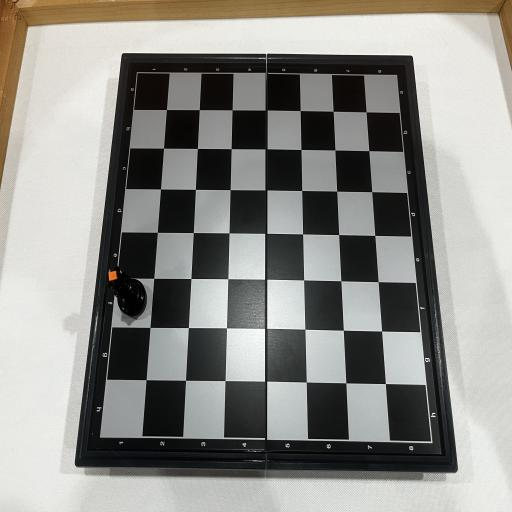Black queen: (106, 266, 147, 318)
